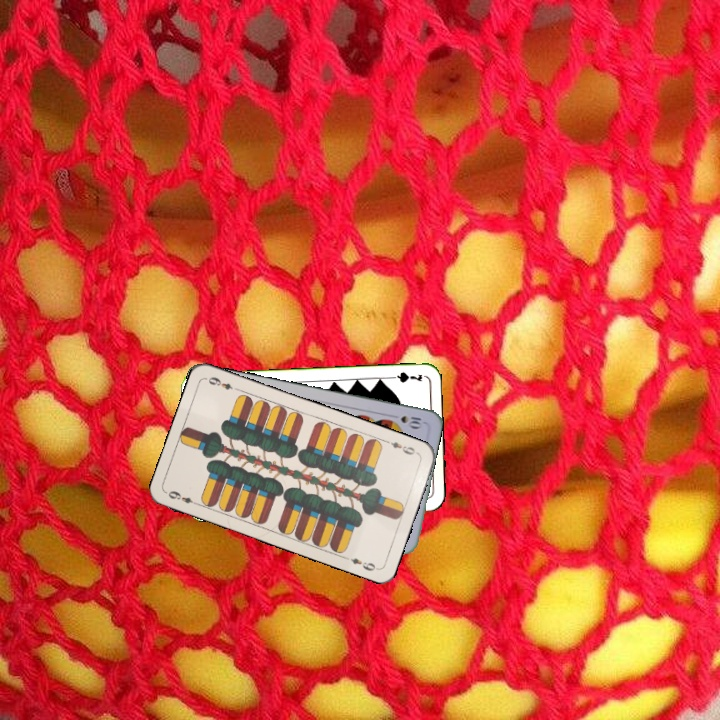E9: (382, 436, 421, 457), (164, 487, 202, 508)
G7: (384, 368, 425, 385)
S10: (386, 412, 424, 430)
